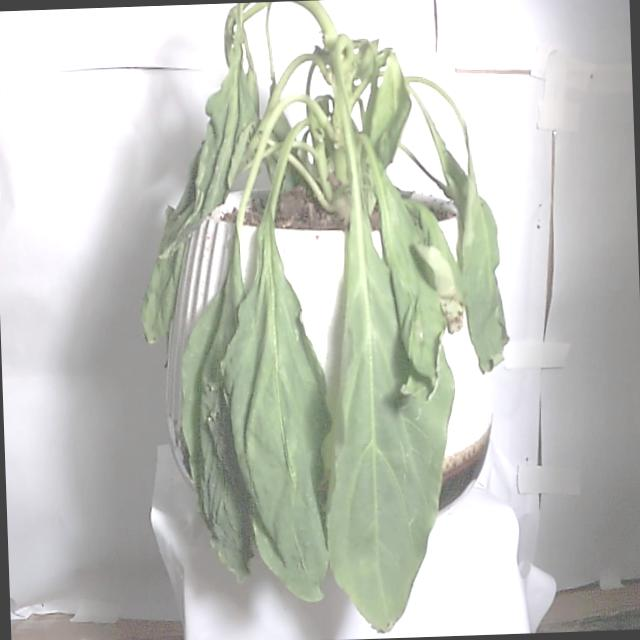Leaf: (310, 225, 460, 638), (218, 257, 337, 604), (179, 282, 259, 586), (441, 151, 515, 374)
